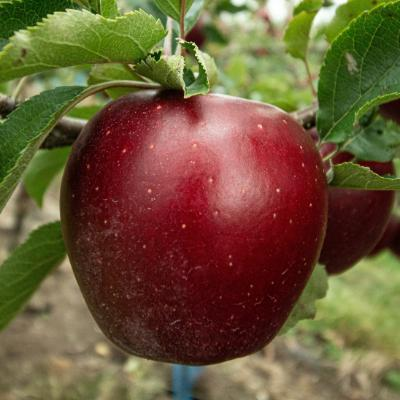apple: (60, 92, 329, 360)
